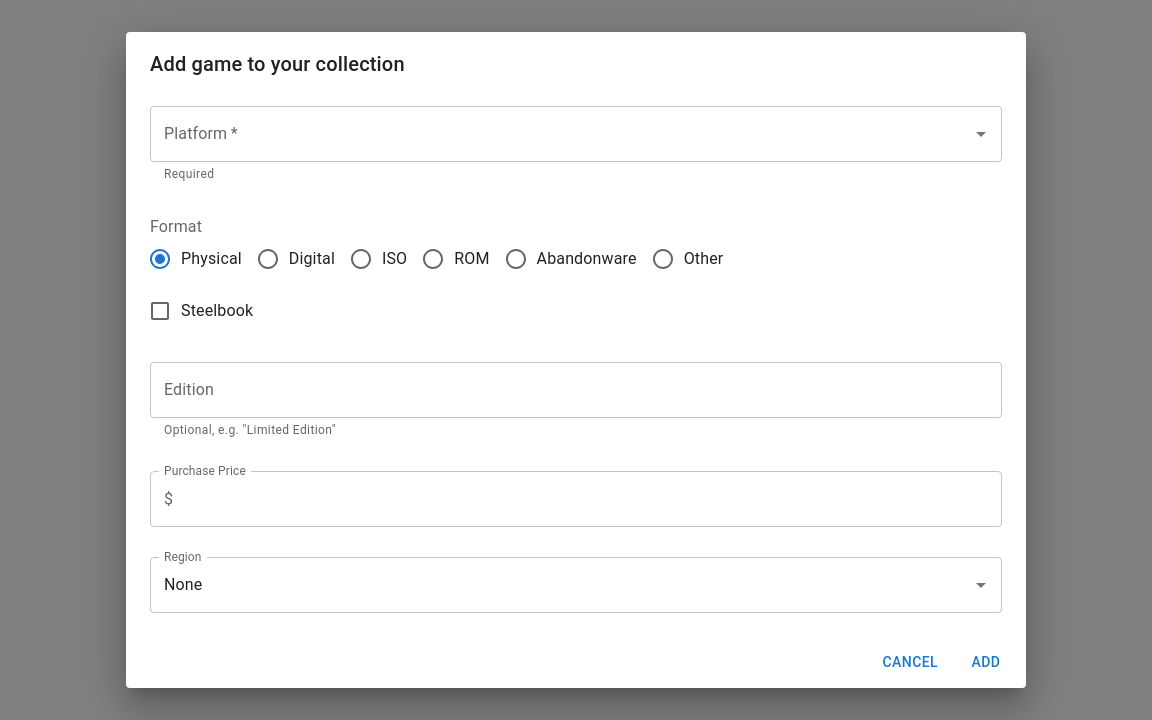
it: LibraryItemDialog › shows Steelbook only while Format is Physical
Expected: the checkbox labelled "Steelbook" is shown, [148,299,253,323]
Click the radio button labelled "Digital". click: {"x": 295, "y": 259}
box: [256,247,335,271]
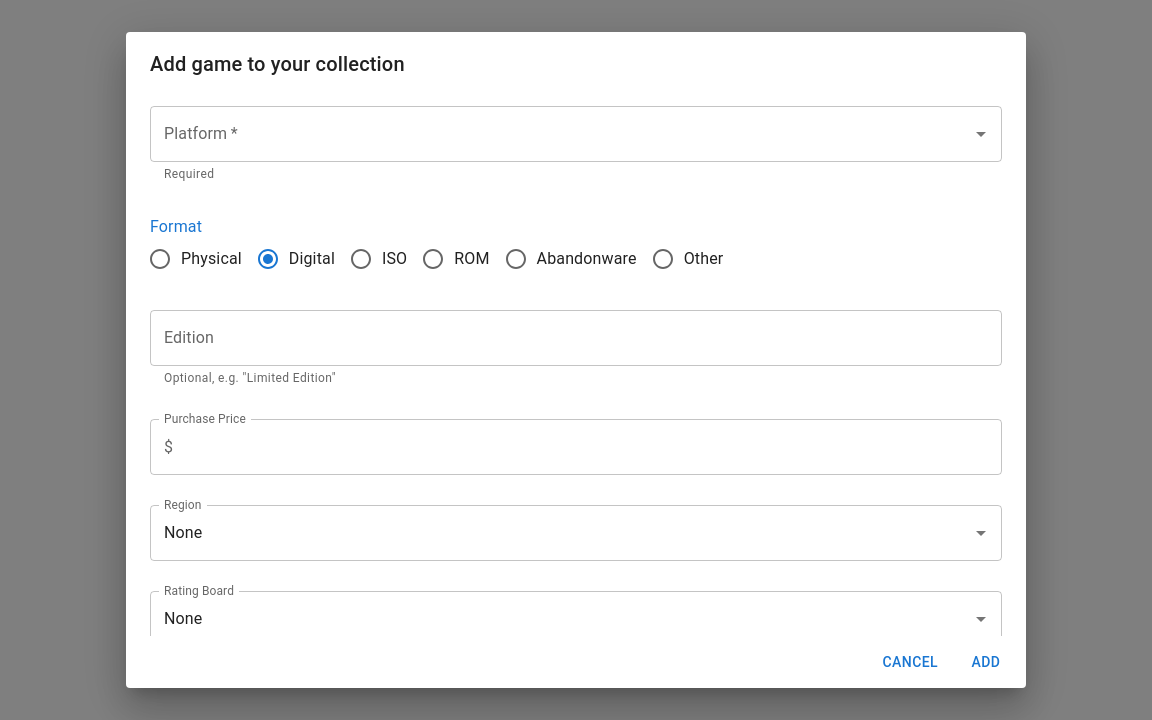
Result: the text labelled "Steelbook" is gone
Click the radio button labelled "Physical". click: {"x": 195, "y": 259}
box: [148,247,242,271]
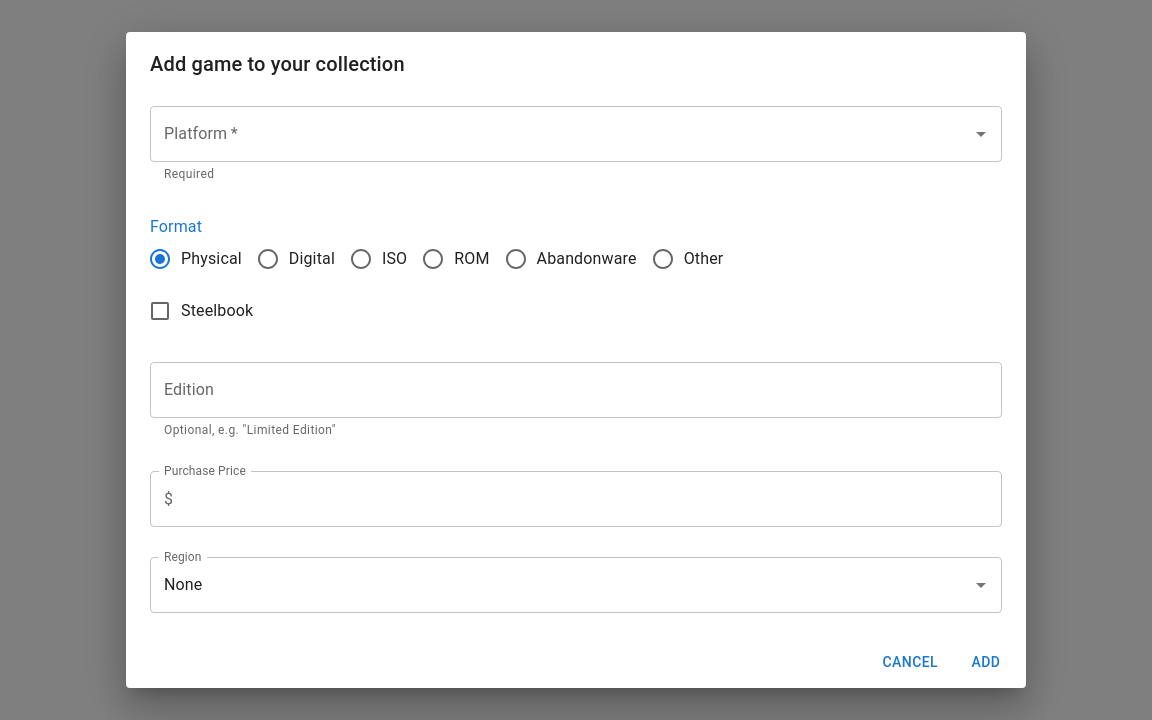
Result: the checkbox labelled "Steelbook" is shown at [148,299,253,323]
